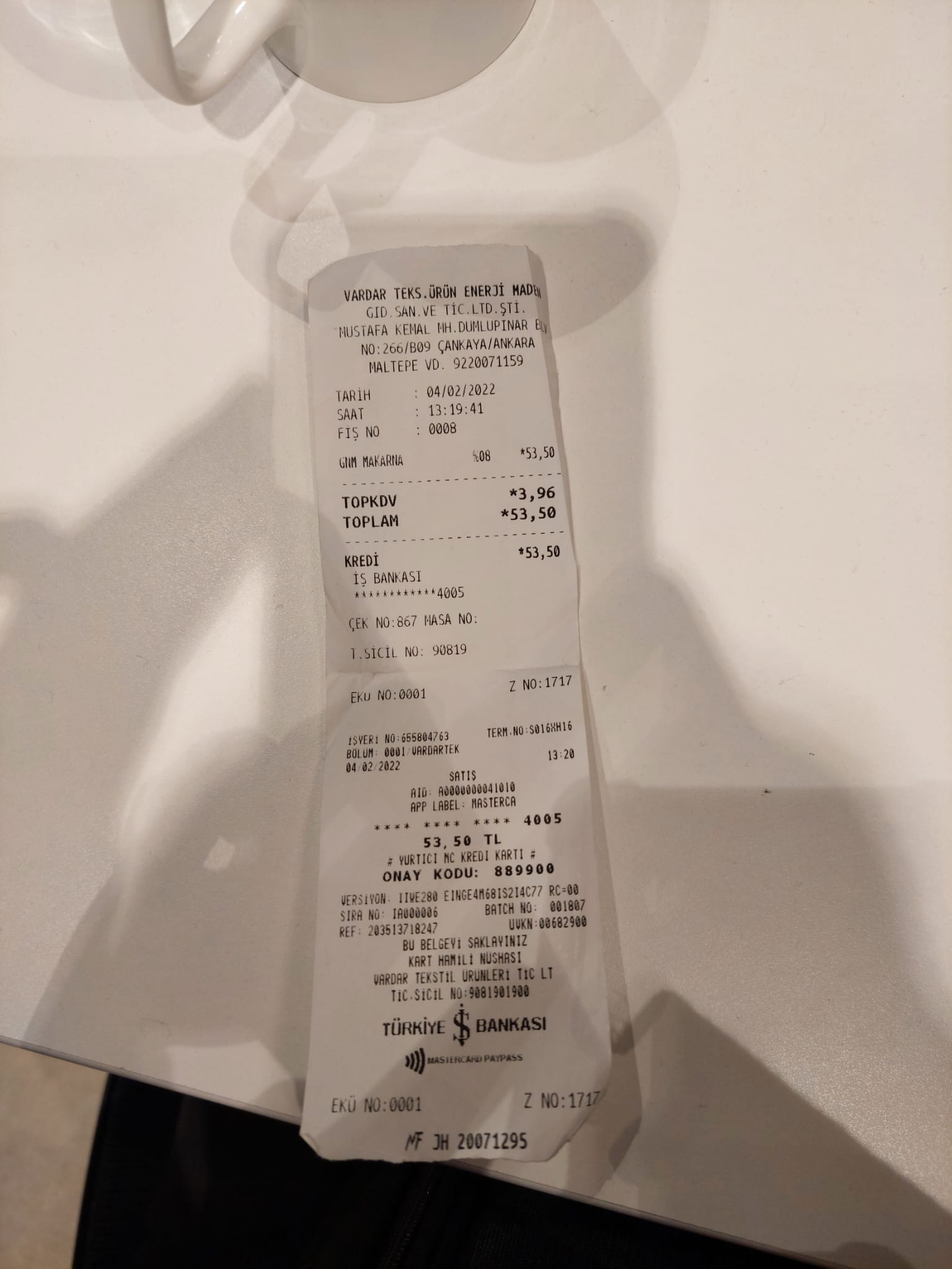date: (421, 377, 502, 402)
price: (510, 501, 561, 524)
workplace: (326, 282, 550, 358)
